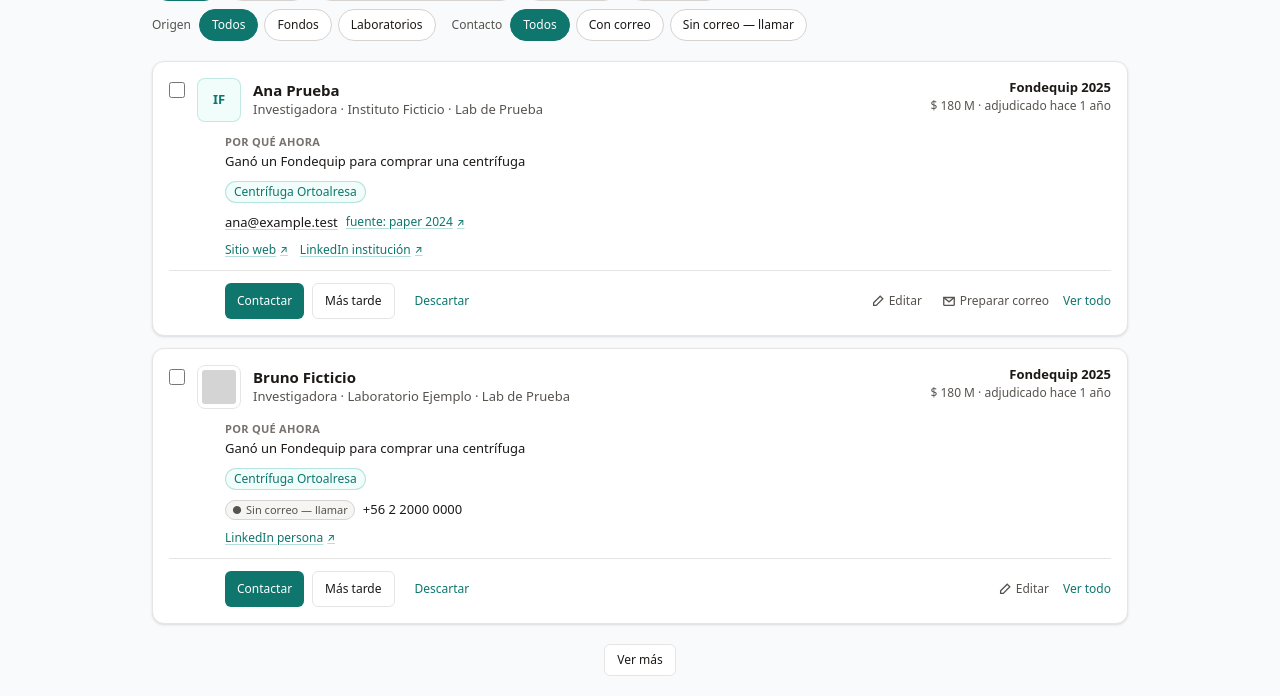
Test case: ProspectosPage › muestra solo nuevos por defecto, ordenados, con «Ver más»
(page scrolled)
Step 1. Click the button "Ver más" → click(640, 660), box [604, 644, 676, 676]
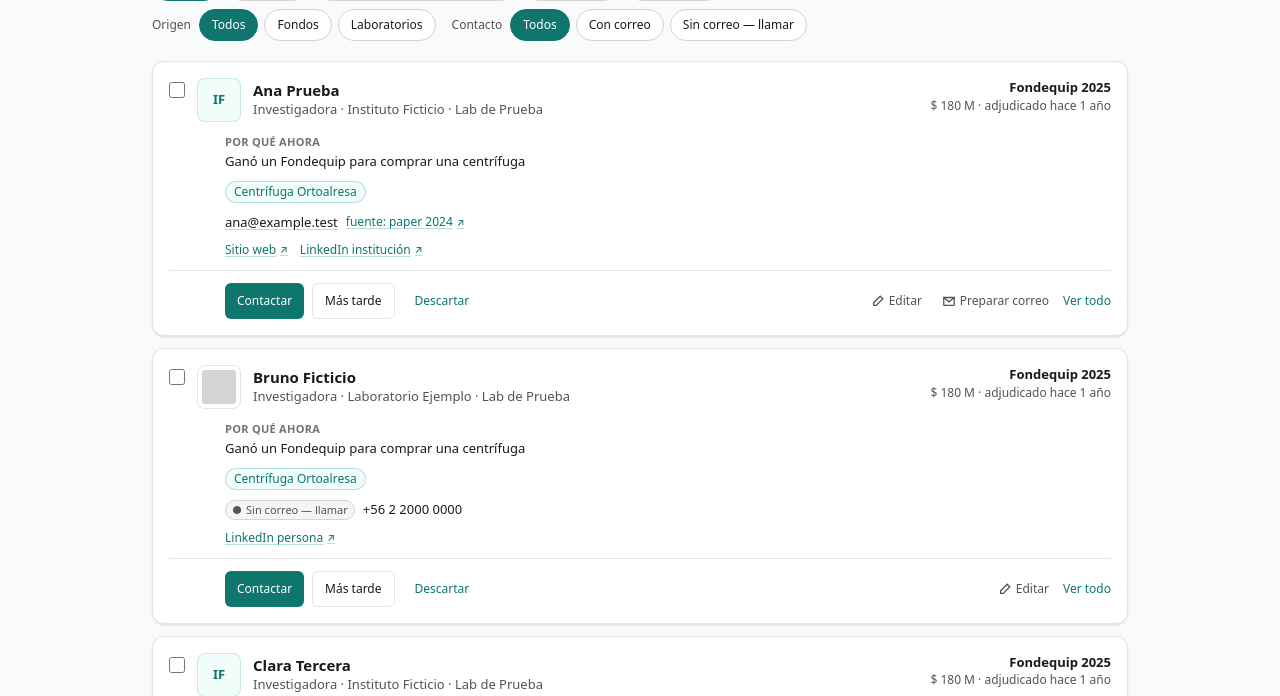
Check: the button "Clara Tercera" is shown, box [253, 654, 351, 674]
